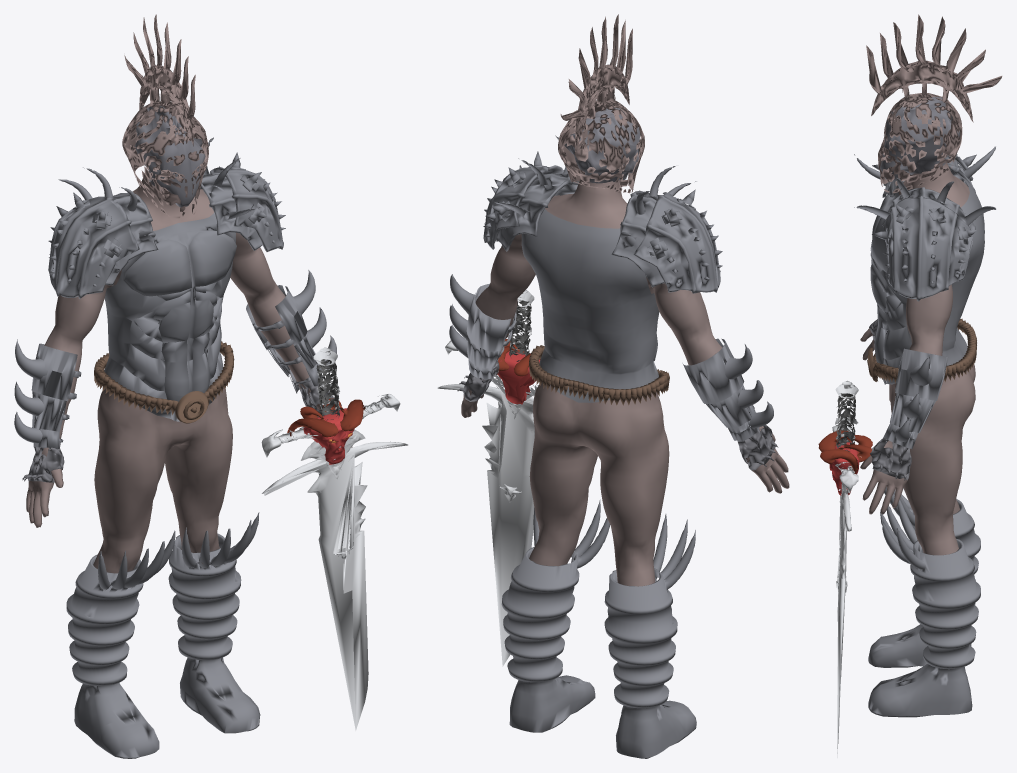
Rendered from kara_sovalye.glb.
The picture shows the model from 3 angles, left to right: view 1: azimuth 30°, elevation 25°; view 2: azimuth 150°, elevation 25°; view 3: azimuth 270°, elevation 25°; orthographic projection. The views are drawn at different scales.
Size of the model in its own units: 17.97 by 33.75 by 8.31.
